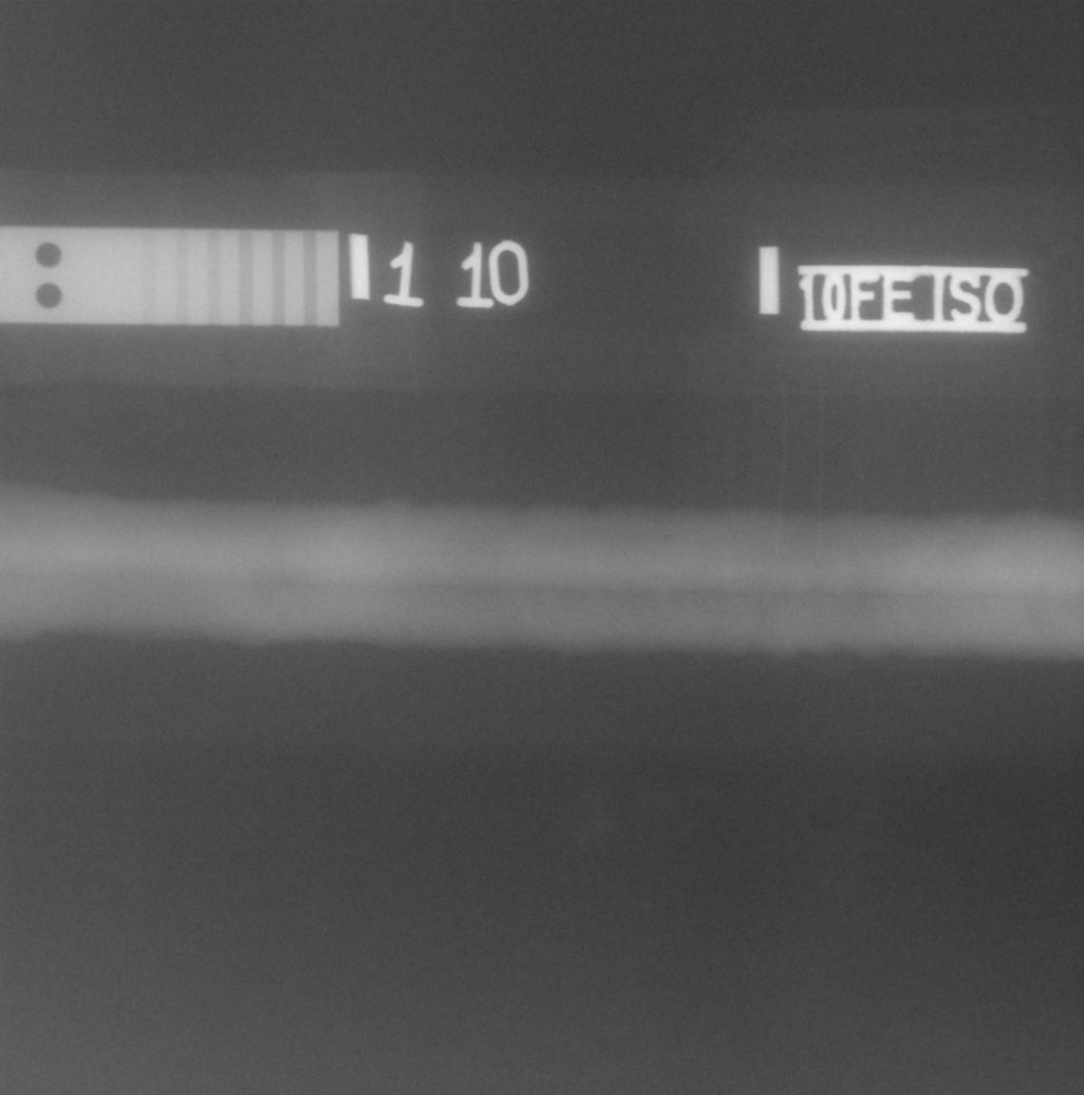Pore/Porosity: (664, 534, 670, 540), (643, 533, 647, 537)
